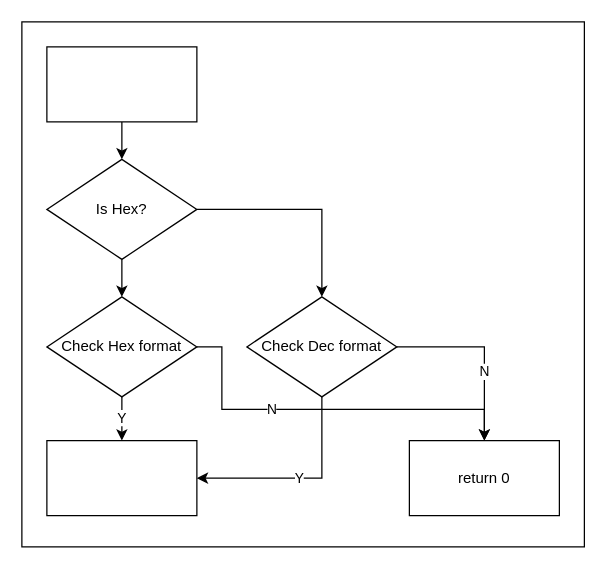
Image size: 606x569. Some labels were removed from this diagram. The shapes that lost their labels are listed below. From the top down, each one's centre as x and y in pixels, then its label:
At (x=121, y=84): "init".
At (x=121, y=477): "output".
